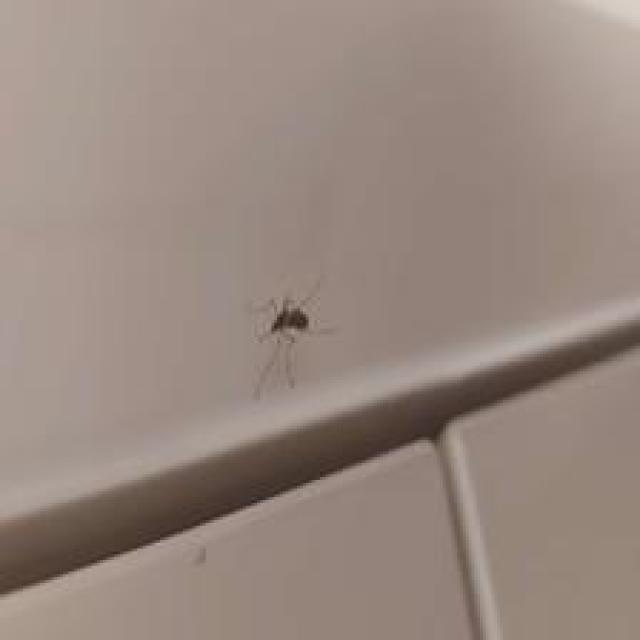Culex: (249, 274, 337, 400)
